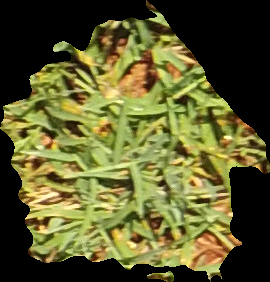grass: (1, 1, 269, 281)
